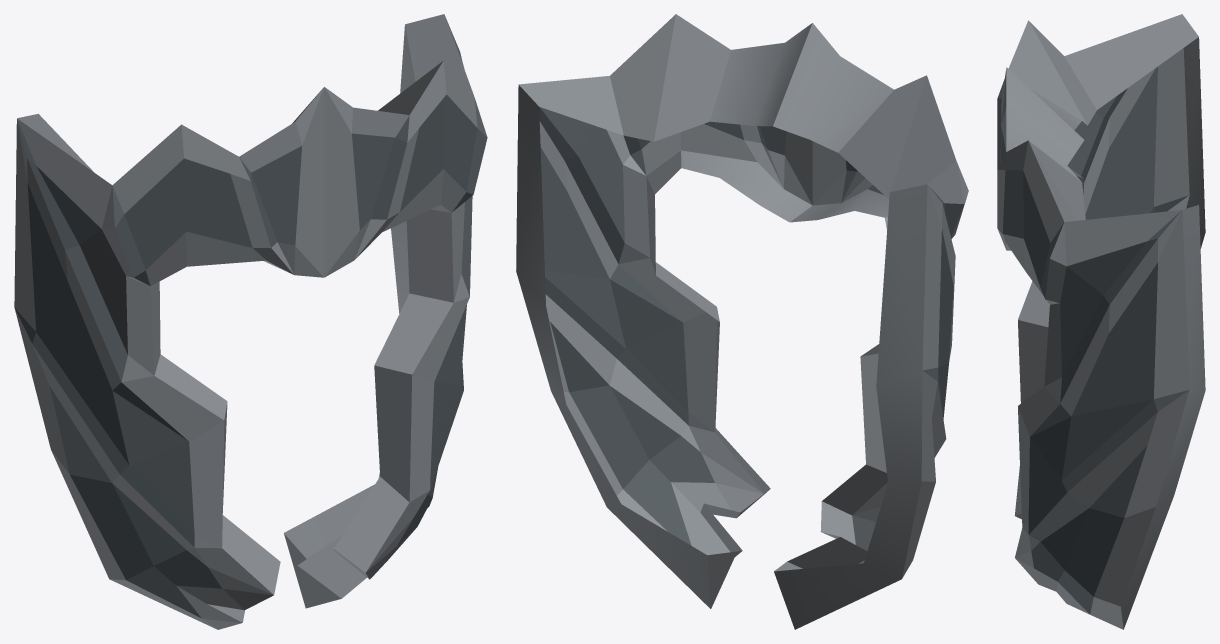
File: Chr_HeadCoverings_No_FacialHair_02_Static.fbx
3 renders of one model, left to right at view 1: azimuth 30°, elevation 25°; view 2: azimuth 150°, elevation 25°; view 3: azimuth 270°, elevation 25°, orthographic. The views are drawn at different scales.
Visible parts, largest first — view 1: Chr_HeadCoverings_No_FacialHair_02_Static; view 2: Chr_HeadCoverings_No_FacialHair_02_Static; view 3: Chr_HeadCoverings_No_FacialHair_02_Static.
Boxes of the visible parts, bbox=[...] form: Chr_HeadCoverings_No_FacialHair_02_Static: bbox=[14, 14, 487, 629]; Chr_HeadCoverings_No_FacialHair_02_Static: bbox=[516, 14, 968, 629]; Chr_HeadCoverings_No_FacialHair_02_Static: bbox=[997, 14, 1205, 629].
Bounding box in the file's own units: 0.2503 × 0.3193 × 0.111.
